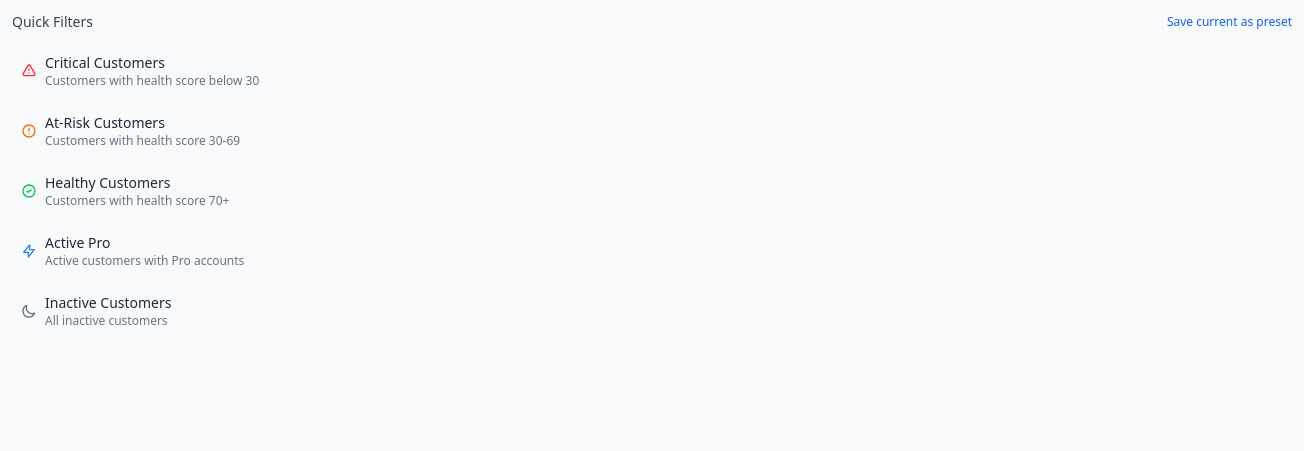
Test: FilterPresets › save preset › closes dialog after saving
This screenshot has width=1304, height=451.
Step 1. Click the button with test id "save-preset-button" → (1229, 22), box [1167, 14, 1292, 30]
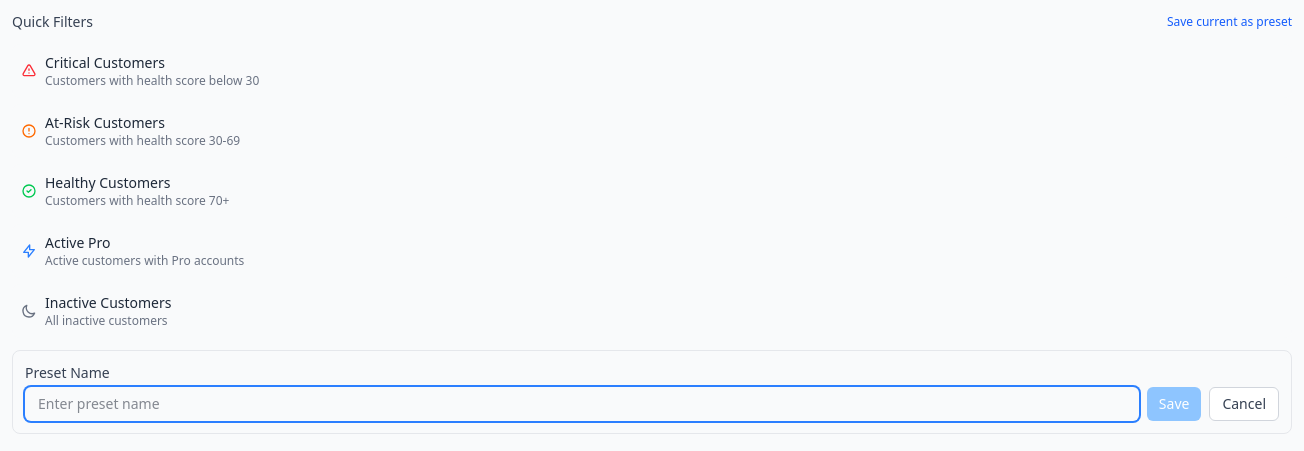
Step 2. Type "My Preset" into the field with test id "preset-name-input" → (582, 404), box [25, 387, 1139, 421]
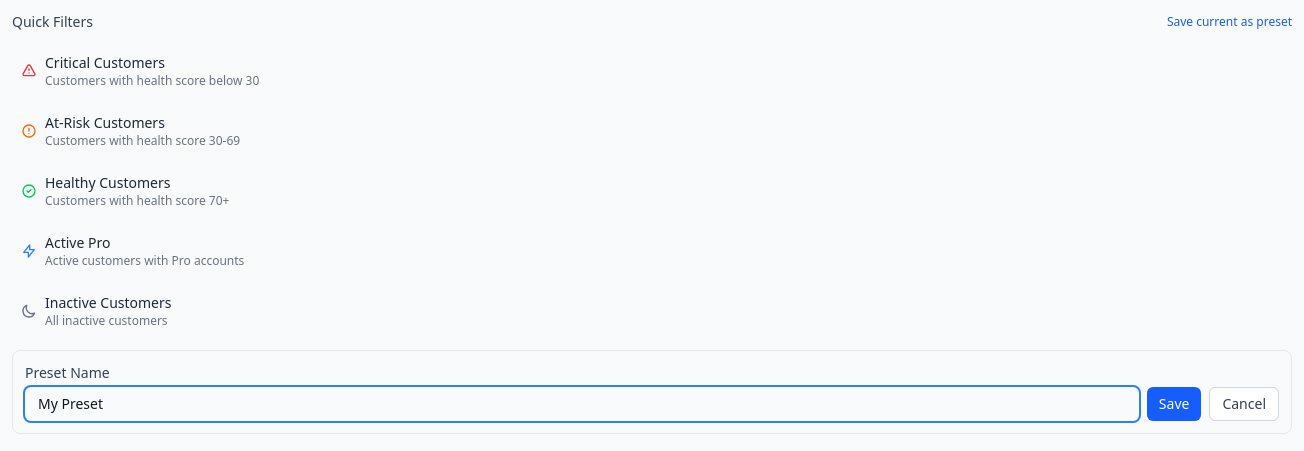
Step 3. Click the button with test id "confirm-save-preset" → (1174, 404), box [1147, 387, 1201, 421]
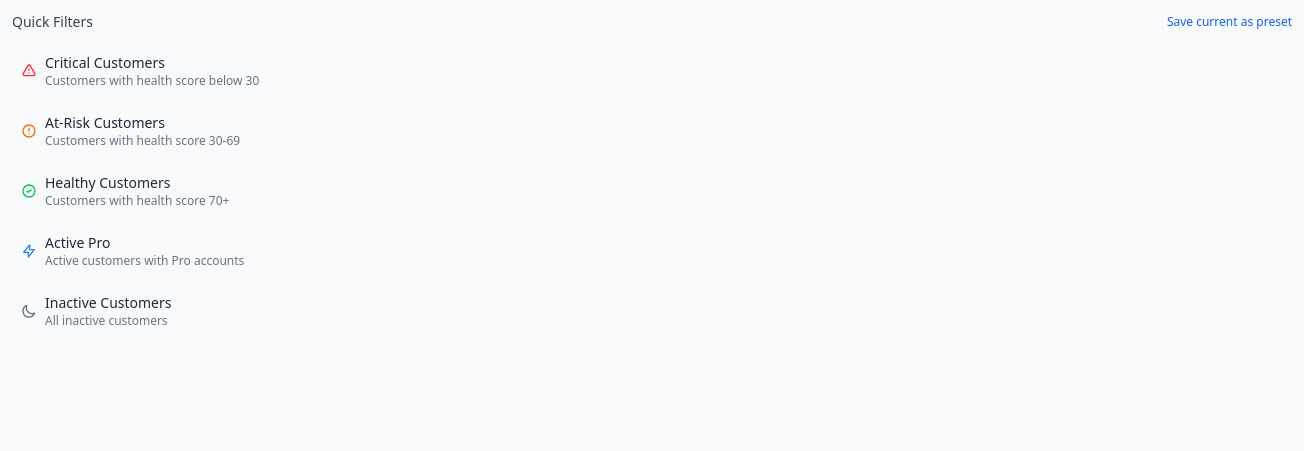
Expected: the element with test id "save-preset-dialog" is gone
